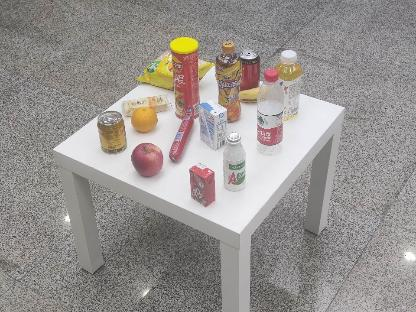Can: (95, 109, 127, 154), (238, 50, 260, 88)
Others: (170, 36, 200, 119), (197, 96, 229, 152), (186, 161, 218, 209)
Plastic Bottle: (249, 64, 288, 158)
